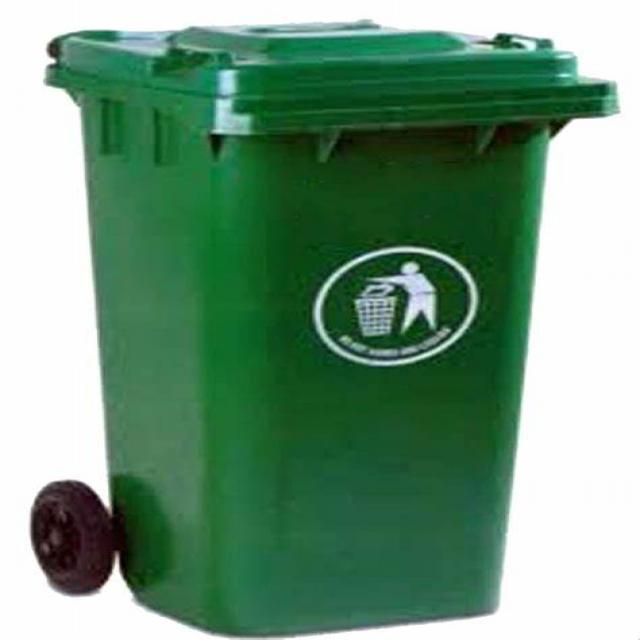garbage container: (31, 22, 606, 640)
